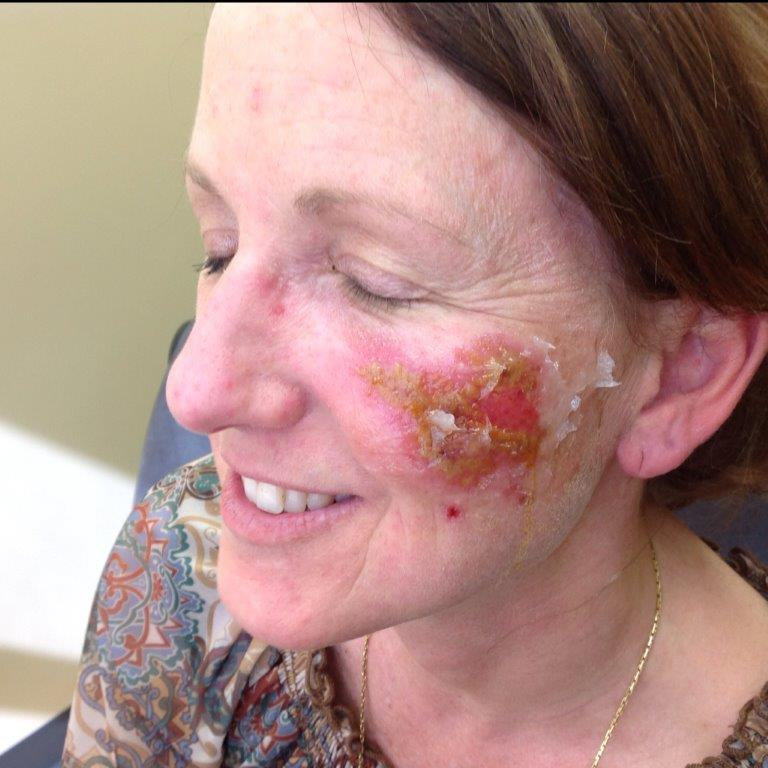Actinic Keratosis: (344, 307, 634, 539)
